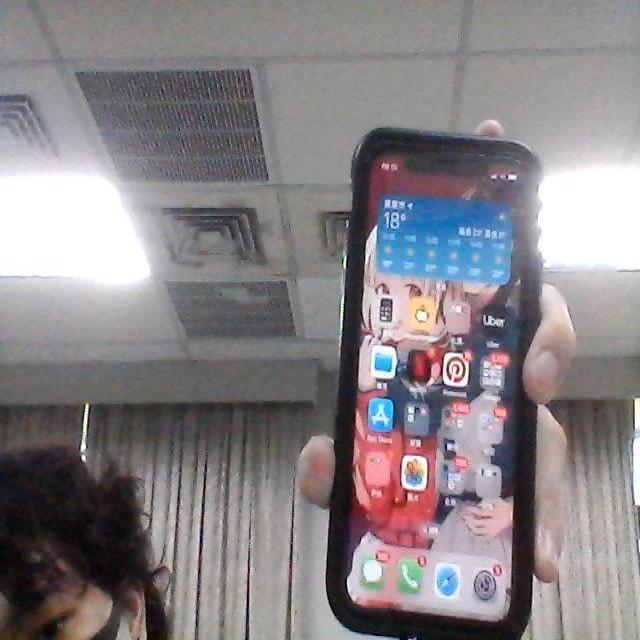smart phone: (288, 93, 537, 632)
